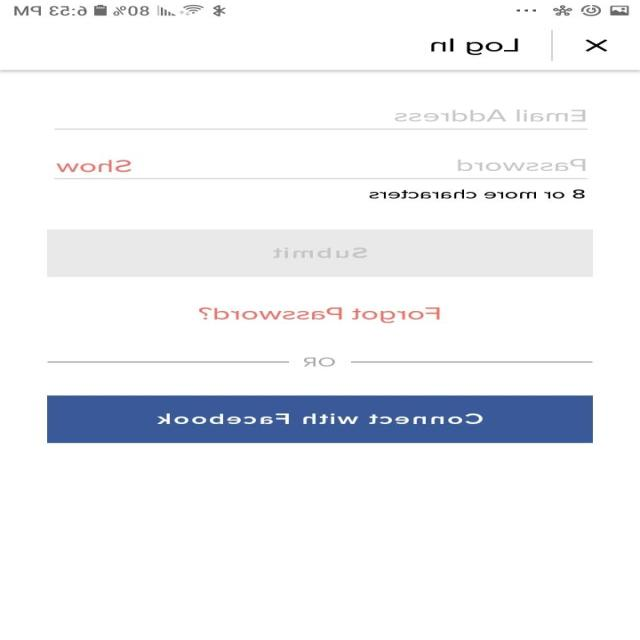EditText: (55, 108, 589, 130), (54, 158, 588, 180)
Icon: (585, 39, 607, 52)
Text: (199, 306, 441, 323), (394, 108, 586, 122), (369, 189, 585, 199), (457, 159, 586, 172), (431, 38, 519, 55), (56, 160, 134, 172), (303, 356, 337, 367)
TextButton: (48, 229, 594, 277), (48, 395, 594, 443)
